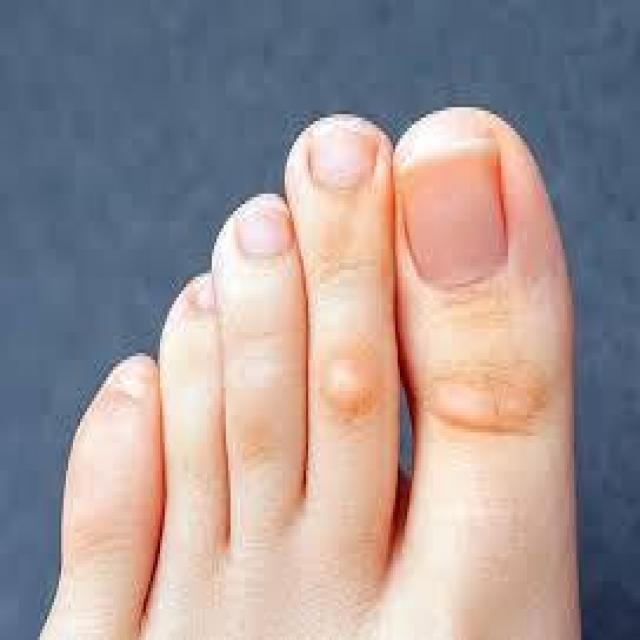No_Shoes: (33, 94, 640, 640)
